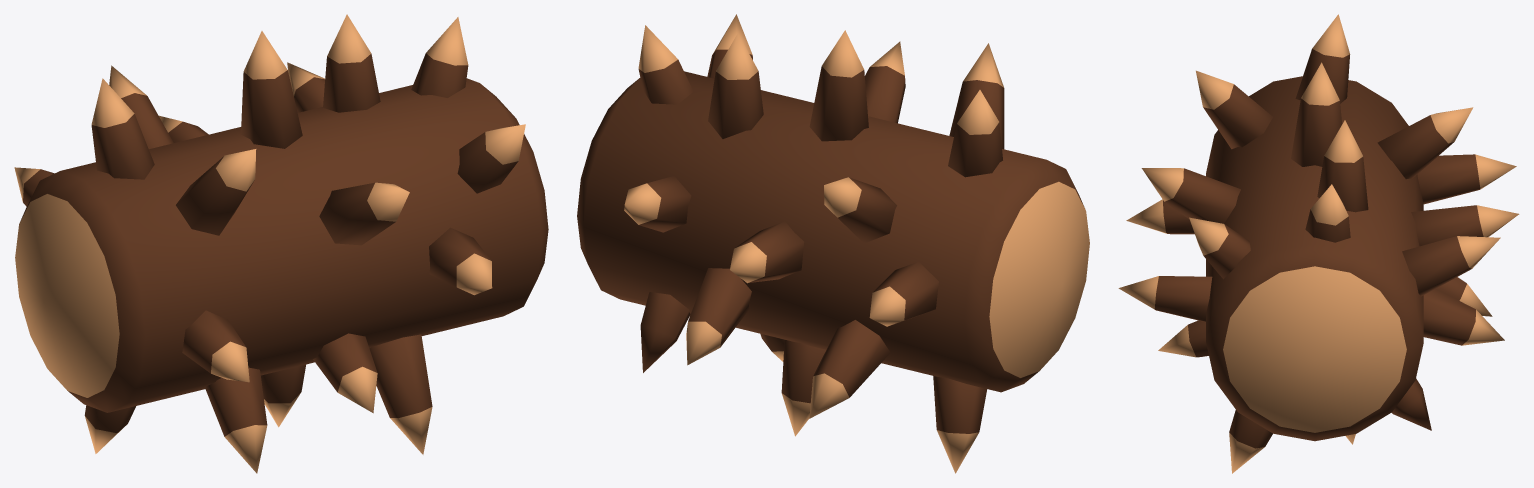
File: Spike_Roller_01.fbx
The picture shows the model from 3 angles, left to right: view 1: azimuth 30°, elevation 25°; view 2: azimuth 150°, elevation 25°; view 3: azimuth 270°, elevation 25°; orthographic projection. The views are drawn at different scales.
Visible parts, largest first — view 1: Spike_Roller_01; view 2: Spike_Roller_01; view 3: Spike_Roller_01.
Part boxes in pixels (box(x1,y1,x2,y2)): Spike_Roller_01: box(14, 14, 548, 473); Spike_Roller_01: box(577, 14, 1089, 473); Spike_Roller_01: box(1118, 14, 1519, 473).
Bounding box in the file's own units: 222 × 187 × 184.
